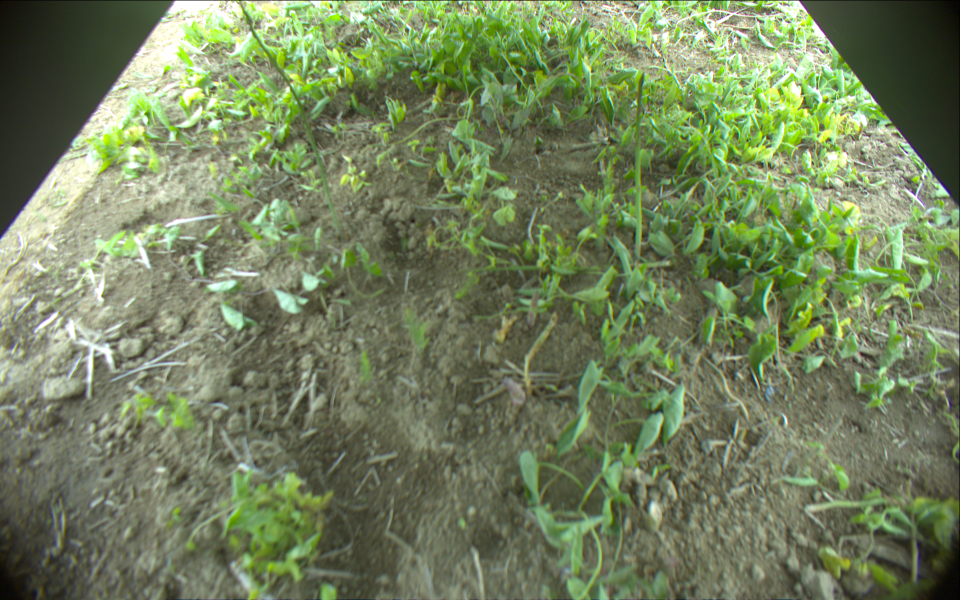aspa: (238, 1, 341, 229), (463, 260, 672, 277), (636, 71, 646, 258)
